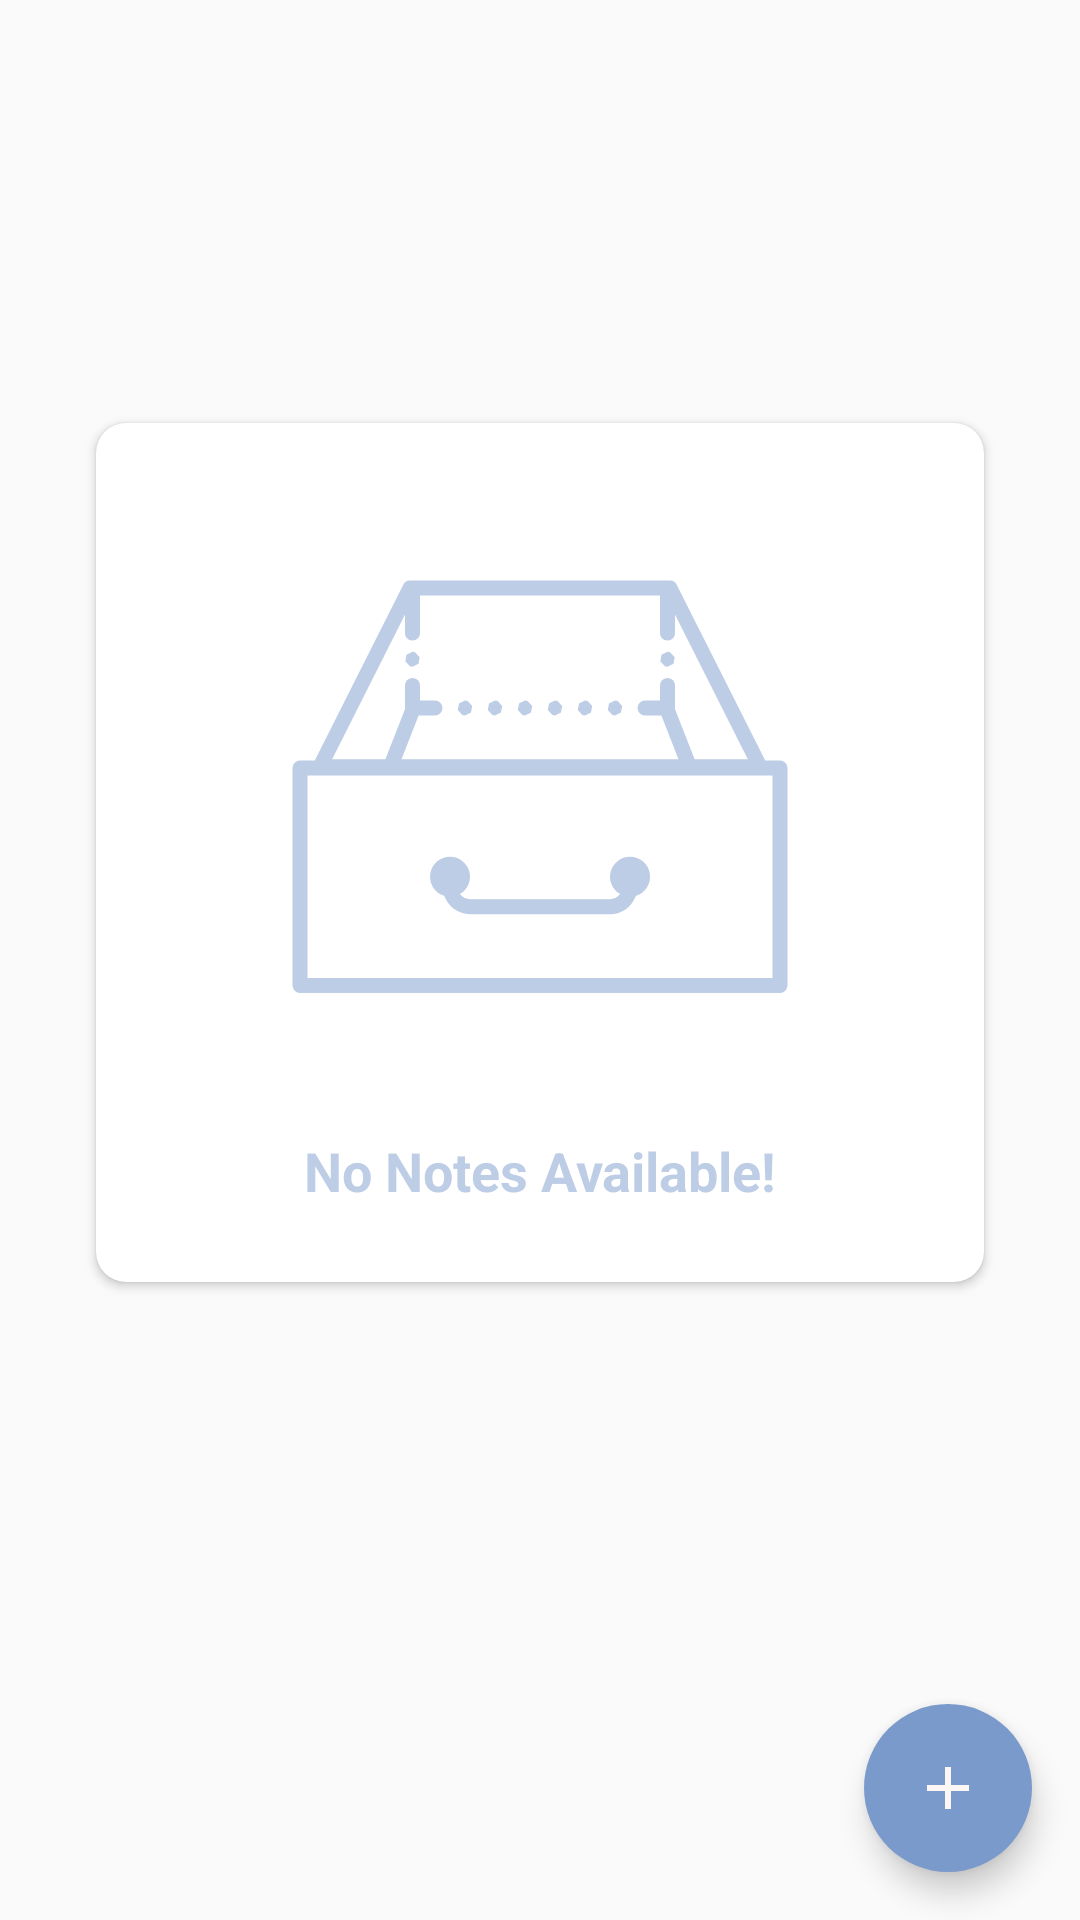

Point at icon controls on the screen. Image size 1080w x 1920h, points as (x=x, y=y).
Add New Note: (x=948, y=1788)
